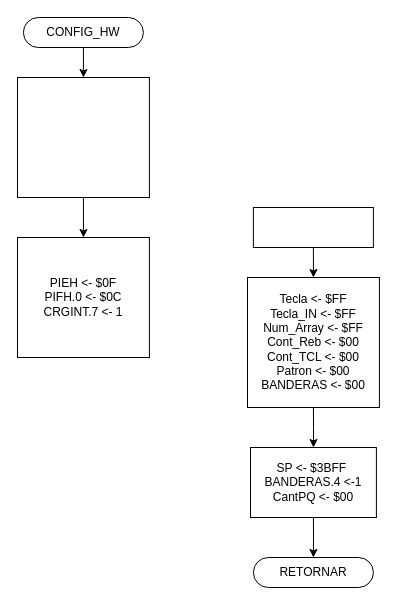
This 397x605 diagram has some shape labels left out. The centre of each missing label's shape, as x and y in pixels:
PTJ <- 1 PTP <- $0F PUCR <- $01 DDRP <- $0F DDRB <- $FF DDRA <- $F0: the point at 82,137
RTICTL<- $17: the point at 312,227
